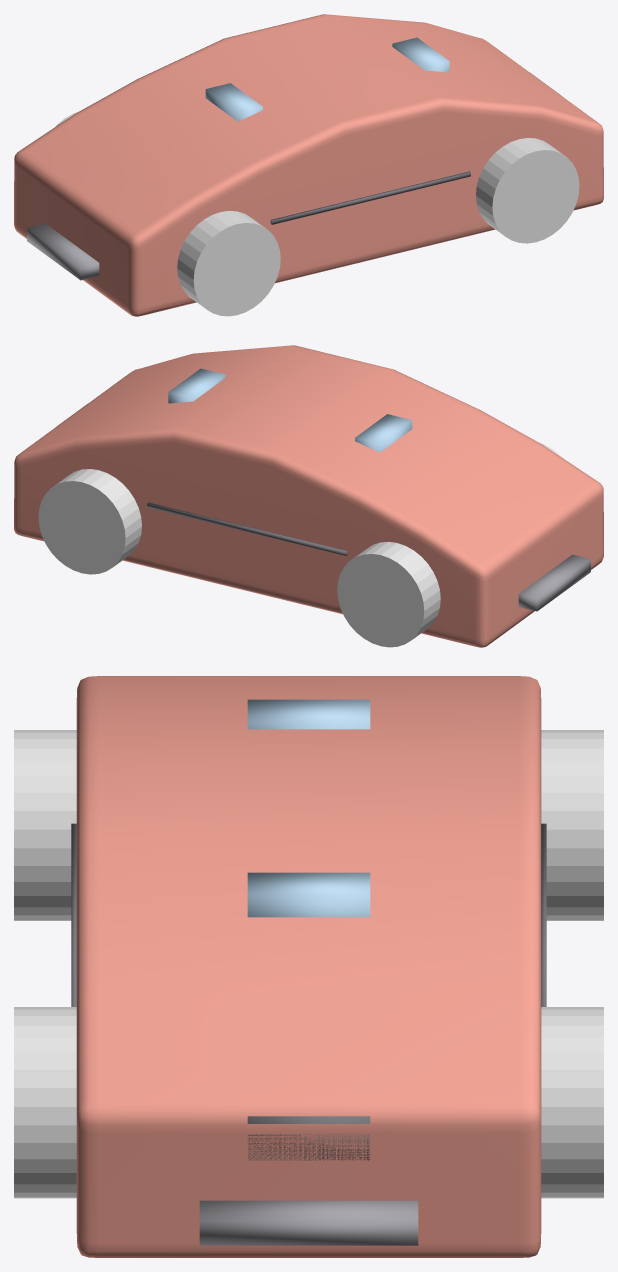
File: car_sedan_red.glb
3 renders of one model, top to bottom at view 1: azimuth 30°, elevation 25°; view 2: azimuth 150°, elevation 25°; view 3: azimuth 270°, elevation 25°, orthographic. The views are drawn at different scales.
Parts seen in each view (by area): view 1: body, well_rear_r, well_front_r, bumper_rear, window_front, trim_right, window_rear; view 2: body, well_rear_l, well_front_l, bumper_rear, window_front, trim_left, window_rear; view 3: body, well_front_l, well_front_r, well_rear_l, well_rear_r, bumper_front, window_rear, window_front, grill, trim_left, trim_right.
Boxes of the visible parts, bbox=[...] form: body: bbox=[14, 14, 603, 316]; well_rear_r: bbox=[177, 210, 280, 316]; well_front_r: bbox=[476, 138, 579, 243]; bumper_rear: bbox=[27, 223, 99, 280]; window_front: bbox=[205, 83, 262, 121]; trim_right: bbox=[270, 171, 470, 224]; window_rear: bbox=[392, 37, 449, 72]; body: bbox=[14, 345, 603, 647]; well_rear_l: bbox=[337, 541, 440, 647]; well_front_l: bbox=[38, 469, 141, 574]; bumper_rear: bbox=[518, 554, 590, 611]; window_front: bbox=[355, 414, 412, 452]; trim_left: bbox=[147, 502, 347, 555]; window_rear: bbox=[168, 368, 225, 403]; body: bbox=[76, 676, 541, 1257]; well_front_l: bbox=[541, 1007, 603, 1198]; well_front_r: bbox=[14, 1007, 76, 1198]; well_rear_l: bbox=[541, 730, 603, 920]; well_rear_r: bbox=[14, 730, 76, 920]; bumper_front: bbox=[199, 1200, 418, 1245]; window_rear: bbox=[247, 872, 370, 917]; window_front: bbox=[247, 699, 370, 729]; grill: bbox=[247, 1116, 370, 1160]; trim_left: bbox=[541, 823, 546, 1006]; trim_right: bbox=[71, 823, 76, 1006].
Bounding box in the file's own units: 4.13 × 1.13 × 2.16.
